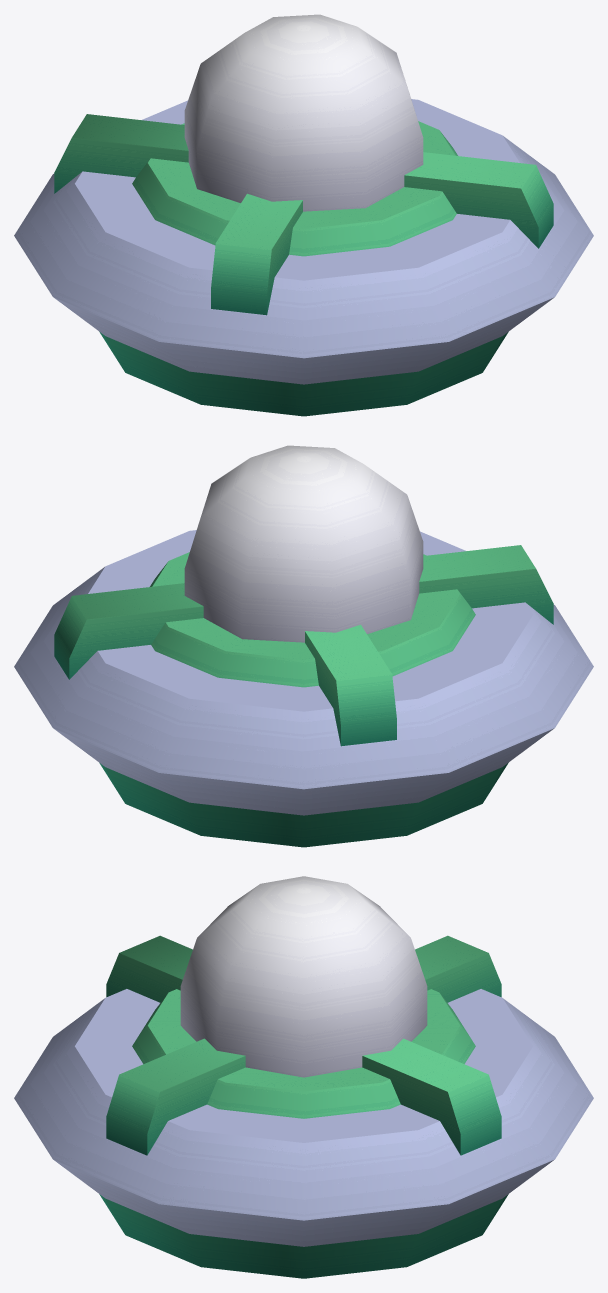
The model's file is tower-defense-kit--enemy-ufo-b.glb.
3 views of the same model, one above another, from view 1: azimuth 30°, elevation 25°; view 2: azimuth 150°, elevation 25°; view 3: azimuth 270°, elevation 25° (orthographic).
Visible parts, largest first — view 1: enemy-ufo-b; view 2: enemy-ufo-b; view 3: enemy-ufo-b.
Part boxes in pixels (bbox=[...]): enemy-ufo-b: bbox=[14, 14, 593, 416]; enemy-ufo-b: bbox=[14, 445, 593, 847]; enemy-ufo-b: bbox=[14, 876, 593, 1278].
Size of the model in its own units: 0.9994 by 0.5754 by 1.
Materials: 1 (1 with a texture image).
